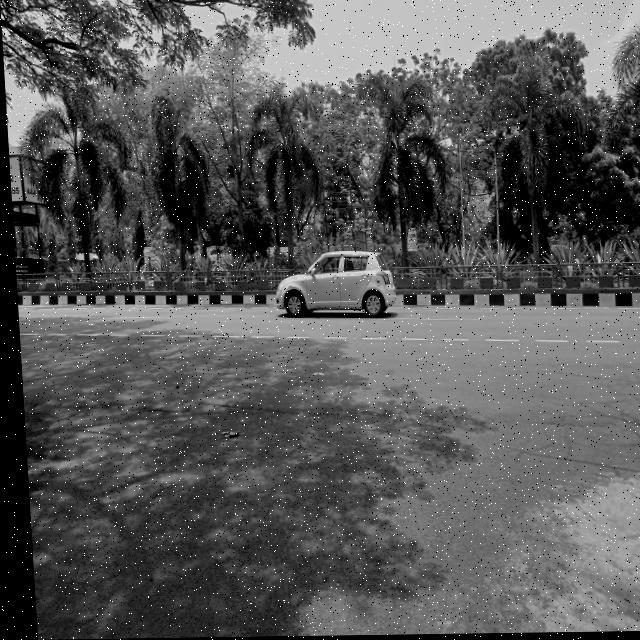car: (267, 244, 399, 325)
